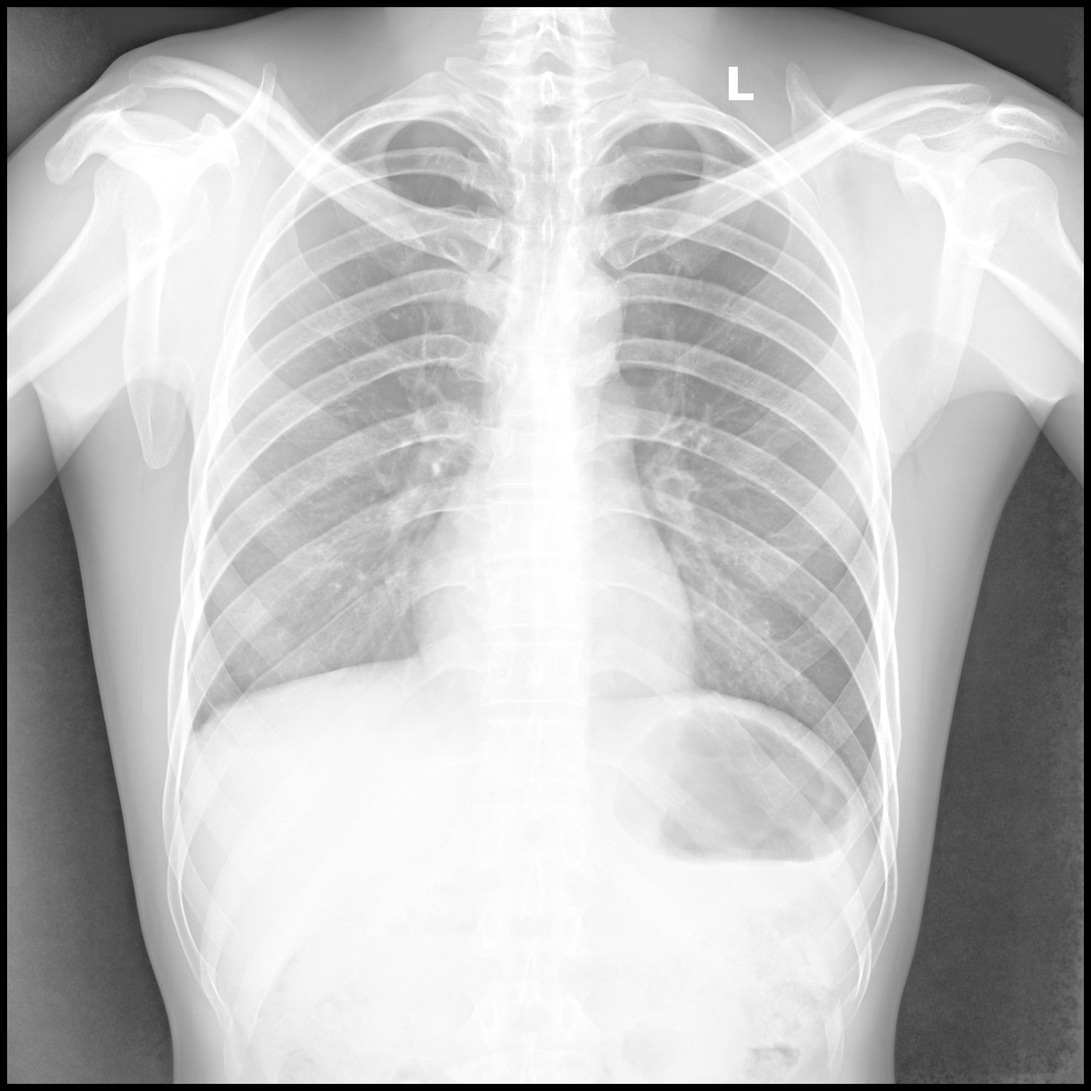Pleural thickening: (173, 684, 215, 772)
